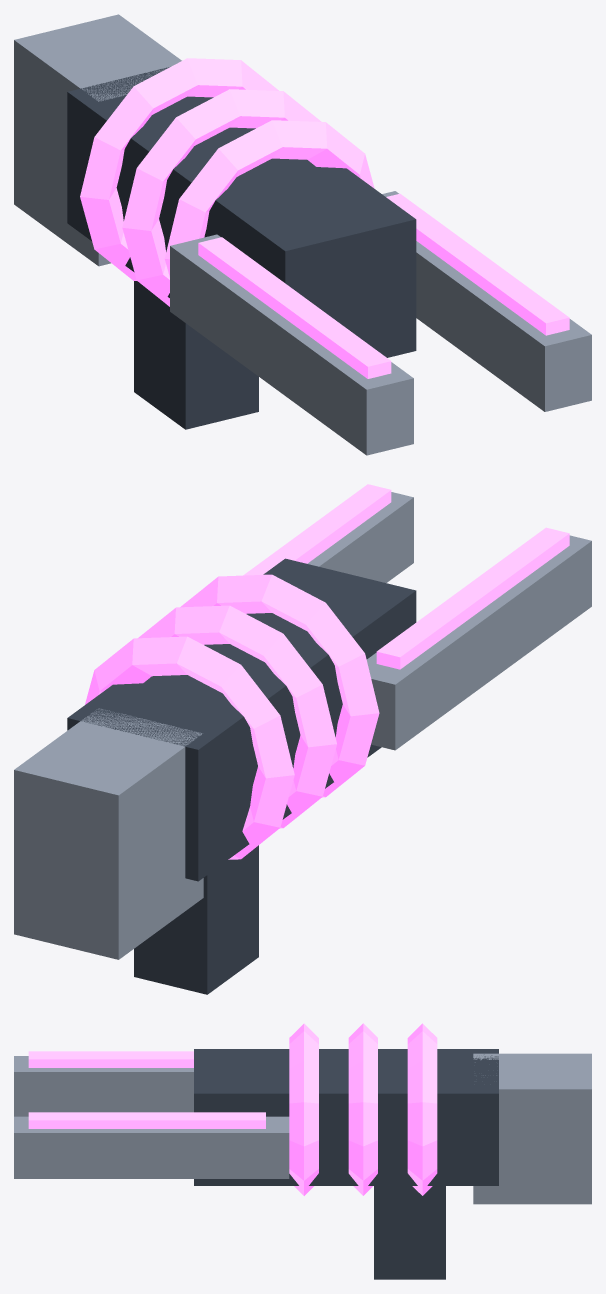
Rendered from arc-rifle.glb.
3 renders of one model, top to bottom at view 1: azimuth 30°, elevation 25°; view 2: azimuth 150°, elevation 25°; view 3: azimuth 270°, elevation 25°, orthographic. The views are drawn at different scales.
Visible parts, largest first — view 1: Receiver, SplitRail, Stock, SplitRail.001, GripShell, Coil.002, Coil.001, Coil, IonRail, IonRail.001; view 2: Stock, Receiver, SplitRail, Coil.002, GripShell, Coil, Coil.001, IonRail, SplitRail.001, IonRail.001; view 3: Receiver, Stock, SplitRail.001, SplitRail, GripShell, Coil.002, Coil, Coil.001, IonRail.001, IonRail.
Boxes of the visible parts, x1,y1,x2,y2 form: Receiver: (67, 67, 416, 357); SplitRail: (170, 234, 413, 455); Stock: (14, 14, 181, 266); SplitRail.001: (382, 191, 591, 411); GripShell: (134, 281, 258, 429); Coil.002: (80, 58, 278, 280); Coil.001: (122, 89, 321, 306); Coil: (164, 120, 374, 277); IonRail: (198, 237, 391, 378); IonRail.001: (386, 193, 569, 335); Stock: (14, 708, 203, 959); Receiver: (67, 558, 416, 881); SplitRail: (367, 535, 591, 750); Coil.002: (85, 636, 294, 859); GripShell: (134, 845, 258, 994); Coil: (180, 574, 379, 797); Coil.001: (138, 605, 336, 828); IonRail: (376, 527, 569, 669); SplitRail.001: (307, 492, 413, 582); IonRail.001: (243, 484, 391, 575); Receiver: (194, 1049, 498, 1185); Stock: (473, 1053, 591, 1204); SplitRail.001: (14, 1116, 289, 1178); SplitRail: (14, 1056, 193, 1116); GripShell: (374, 1186, 445, 1279); Coil.002: (407, 1023, 437, 1195); Coil: (289, 1023, 318, 1195); Coil.001: (348, 1023, 377, 1195); IonRail.001: (28, 1112, 265, 1128); IonRail: (28, 1051, 193, 1067).
Bounding box in the file's own units: 0.43 × 0.615 × 1.36.
